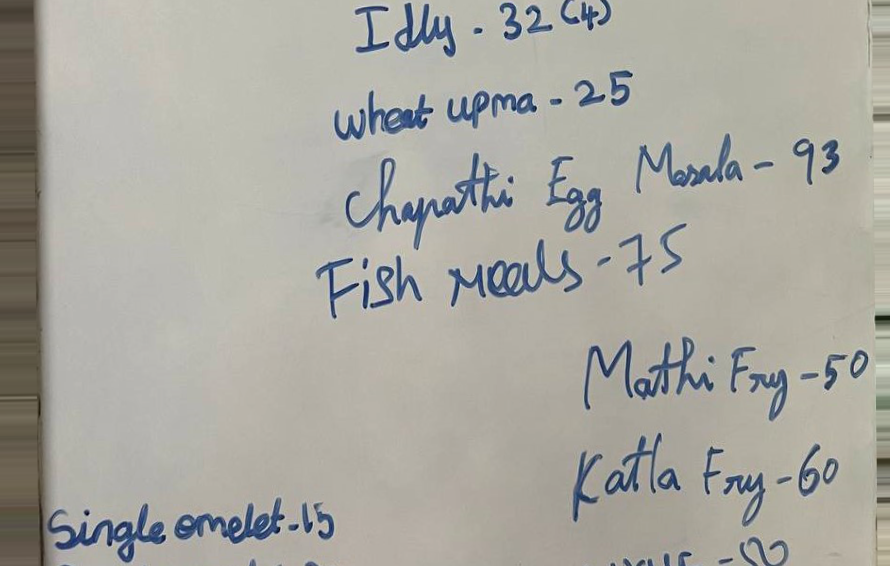chapathi egg masala - 93: (340, 140, 839, 242)
fish Meals - 75: (315, 227, 688, 318)
idly(4) - 32: (348, 1, 623, 59)
katla fry - 60: (567, 433, 844, 524)
mathi fry - 50: (581, 335, 869, 424)
single omelet - 15: (43, 498, 339, 558)
wheat upma - 25: (332, 70, 628, 142)
